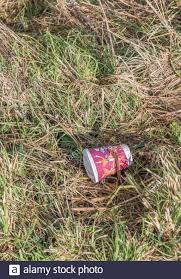cup: (82, 144, 134, 183)
